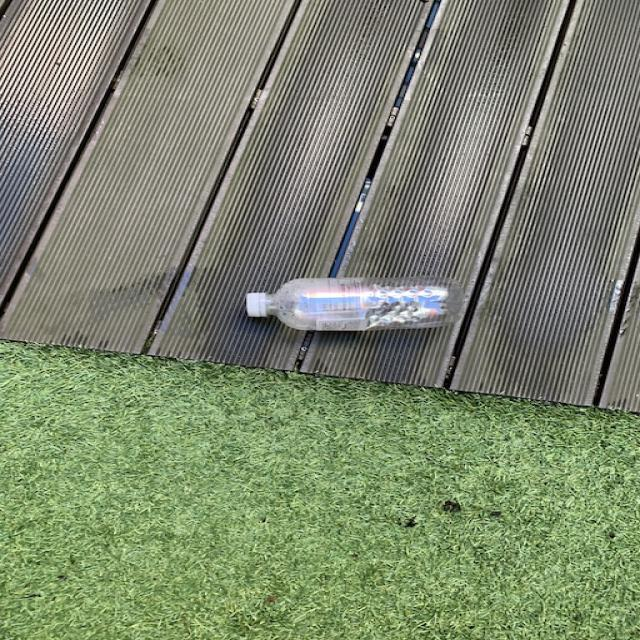Waste: (248, 277, 462, 331)
